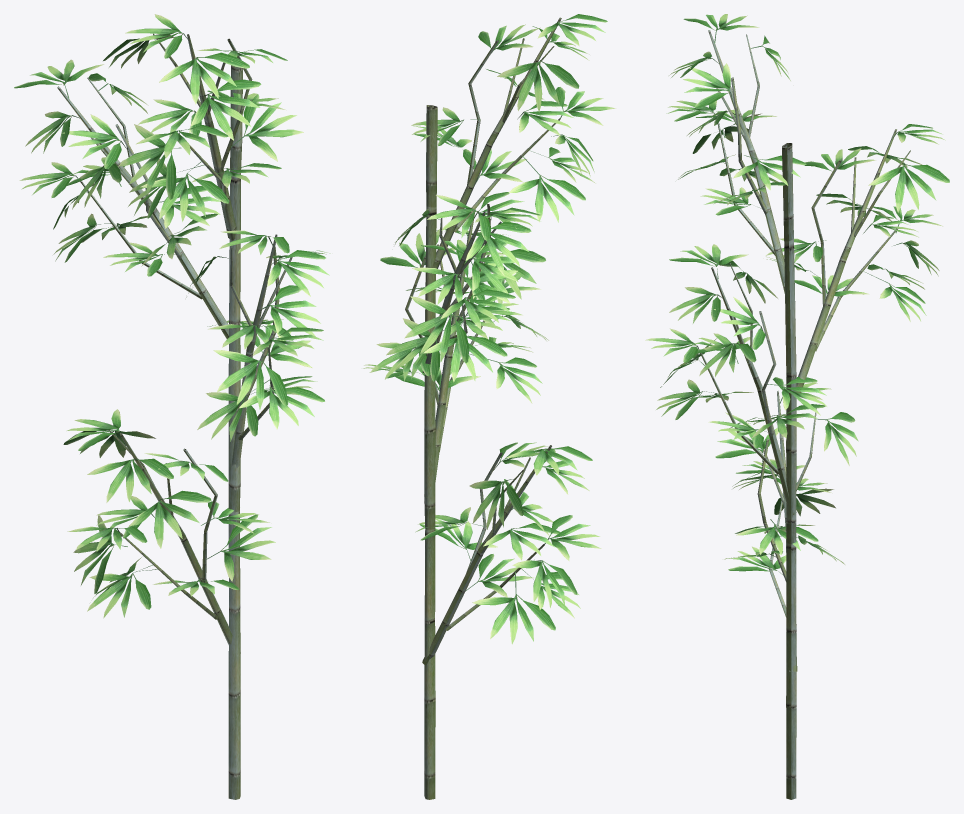
Rendered from bamboo 1.fbx.
3 views of the same model, side by side, from view 1: azimuth 30°, elevation 25°; view 2: azimuth 150°, elevation 25°; view 3: azimuth 270°, elevation 25° (orthographic). The views are drawn at different scales.
Parts seen in each view (by area): view 1: polySurface357, polySurface358, polySurface355, polySurface359, polySurface356; view 2: polySurface358, polySurface359, polySurface357, polySurface355, polySurface356; view 3: polySurface355, polySurface359, polySurface357, polySurface356, polySurface358.
Boxes of the visible parts, x1,y1,x2,y2 form: polySurface357: [103, 14, 303, 240]; polySurface358: [63, 409, 275, 653]; polySurface355: [186, 230, 330, 467]; polySurface359: [14, 59, 228, 338]; polySurface356: [228, 65, 242, 799]; polySurface358: [415, 442, 601, 665]; polySurface359: [386, 195, 540, 382]; polySurface357: [411, 14, 615, 268]; polySurface355: [363, 192, 548, 497]; polySurface356: [424, 105, 437, 799]; polySurface355: [645, 244, 826, 514]; polySurface359: [766, 124, 949, 393]; polySurface357: [666, 14, 806, 293]; polySurface356: [782, 143, 796, 799]; polySurface358: [715, 377, 858, 671].
Size of the model in its own units: 11.92 by 38.13 by 14.44.
